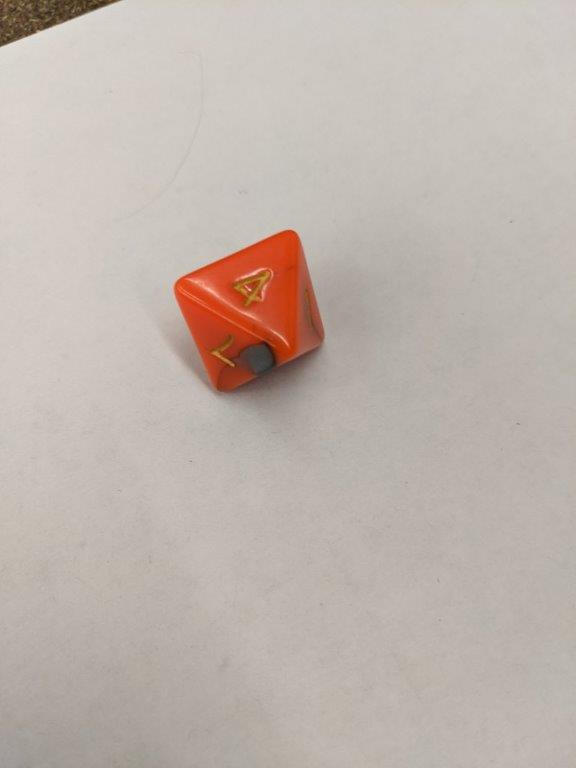d8-4: (176, 228, 331, 396)
